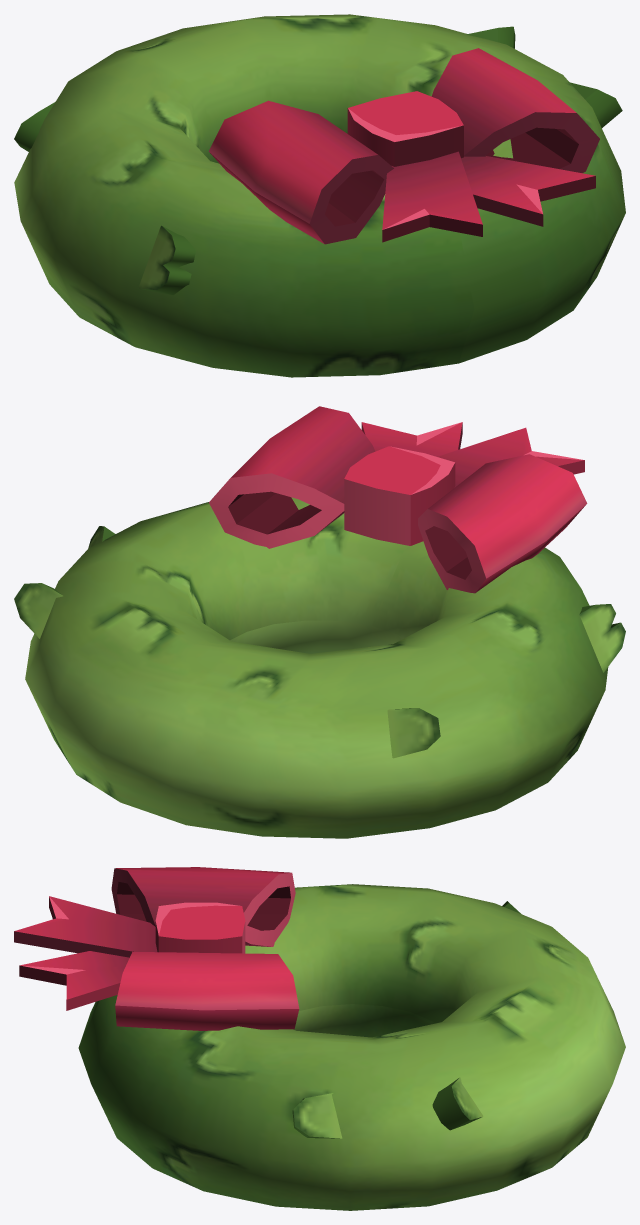
File: Wreath.fbx
3 renders of one model, top to bottom at view 1: azimuth 30°, elevation 25°; view 2: azimuth 150°, elevation 25°; view 3: azimuth 270°, elevation 25°, orthographic. The views are drawn at different scales.
Parts seen in each view (by area): view 1: Wreath; view 2: Wreath; view 3: Wreath.
Part boxes in pixels (x1=…): Wreath: x1=14, y1=14, x2=625, y2=377; Wreath: x1=14, y1=406, x2=625, y2=838; Wreath: x1=14, y1=867, x2=625, y2=1210.
Bounding box in the file's own units: 65.38 × 28.81 × 72.46.
